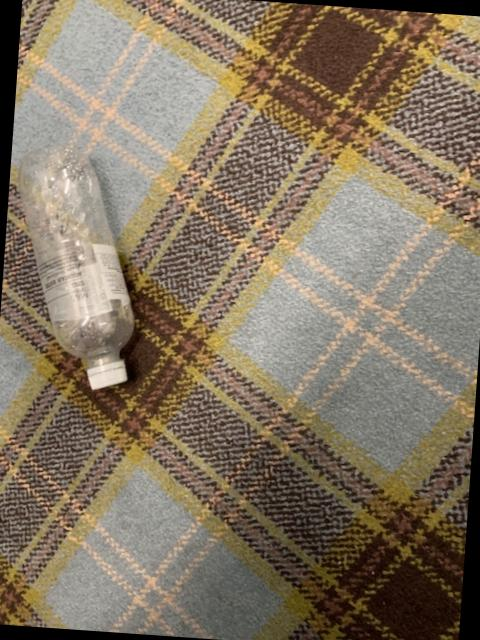plastic: (17, 144, 132, 387)
